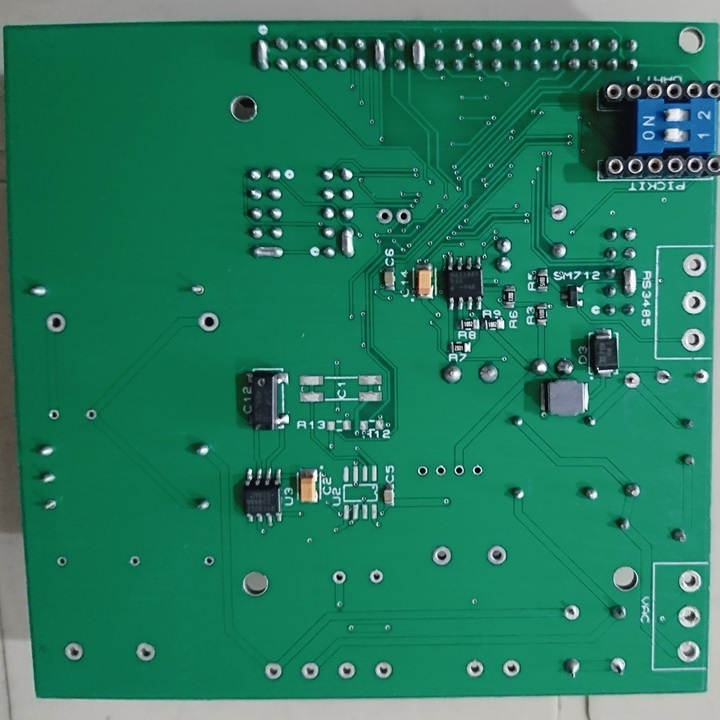F: (674, 637, 703, 666), (680, 288, 709, 316), (676, 566, 704, 595), (682, 249, 708, 280), (680, 327, 707, 353), (676, 603, 701, 629), (430, 543, 455, 569), (464, 658, 487, 682), (62, 640, 85, 663), (134, 640, 157, 663), (485, 543, 508, 566), (547, 200, 570, 223), (196, 312, 221, 333), (561, 602, 584, 624), (45, 312, 67, 335), (261, 660, 283, 683), (606, 655, 627, 678), (338, 661, 358, 683), (691, 364, 710, 387), (373, 660, 393, 681), (501, 659, 522, 679), (653, 367, 673, 387), (300, 660, 320, 680), (624, 369, 641, 392), (376, 207, 394, 226), (396, 207, 413, 225), (41, 496, 59, 513), (189, 283, 207, 299), (329, 569, 349, 583), (367, 569, 385, 584), (47, 409, 62, 423), (201, 555, 216, 569), (433, 464, 447, 478), (128, 553, 141, 568), (83, 407, 96, 421), (470, 463, 483, 477), (416, 464, 428, 479), (56, 554, 67, 568), (452, 464, 465, 475)
P: (252, 35, 272, 75), (337, 223, 357, 261), (370, 36, 389, 75), (410, 35, 428, 75), (250, 243, 285, 262), (622, 264, 640, 298)
